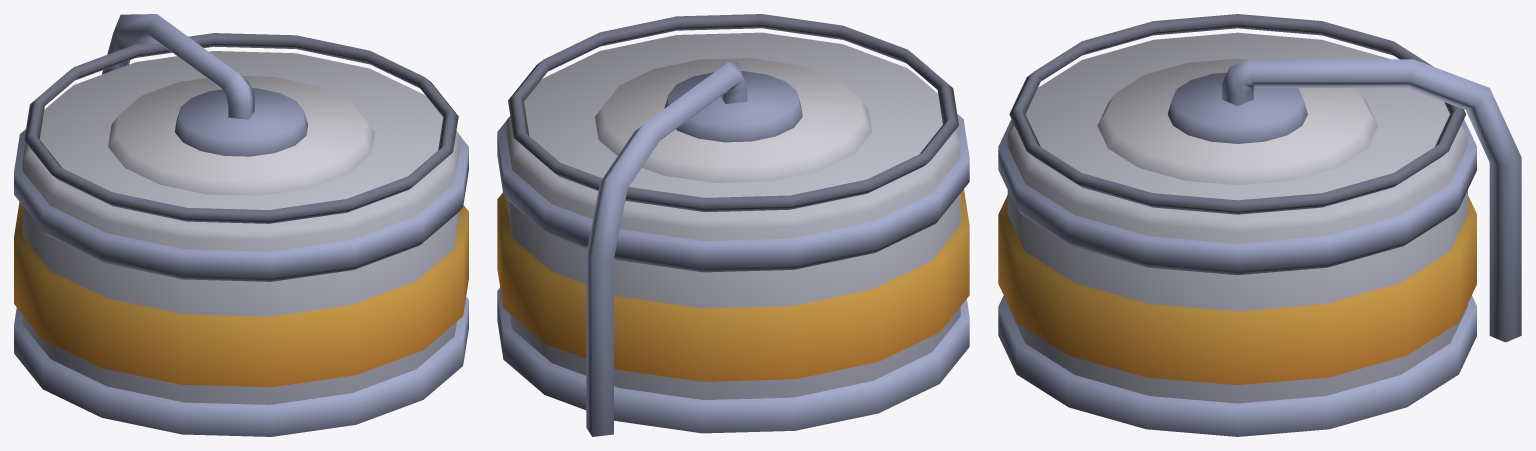
Rendered from industrial-detail-tank-large.glb.
3 renders of one model, left to right at view 1: azimuth 30°, elevation 25°; view 2: azimuth 150°, elevation 25°; view 3: azimuth 270°, elevation 25°, orthographic. The views are drawn at different scales.
Parts seen in each view (by area): view 1: detail-tank-large; view 2: detail-tank-large; view 3: detail-tank-large.
Part boxes in pixels (box(x1,y1,x2,y2)): detail-tank-large: box(14, 14, 468, 436); detail-tank-large: box(497, 14, 969, 436); detail-tank-large: box(998, 14, 1521, 436).
Size of the model in its own units: 1.51 by 0.9616 by 1.65.
